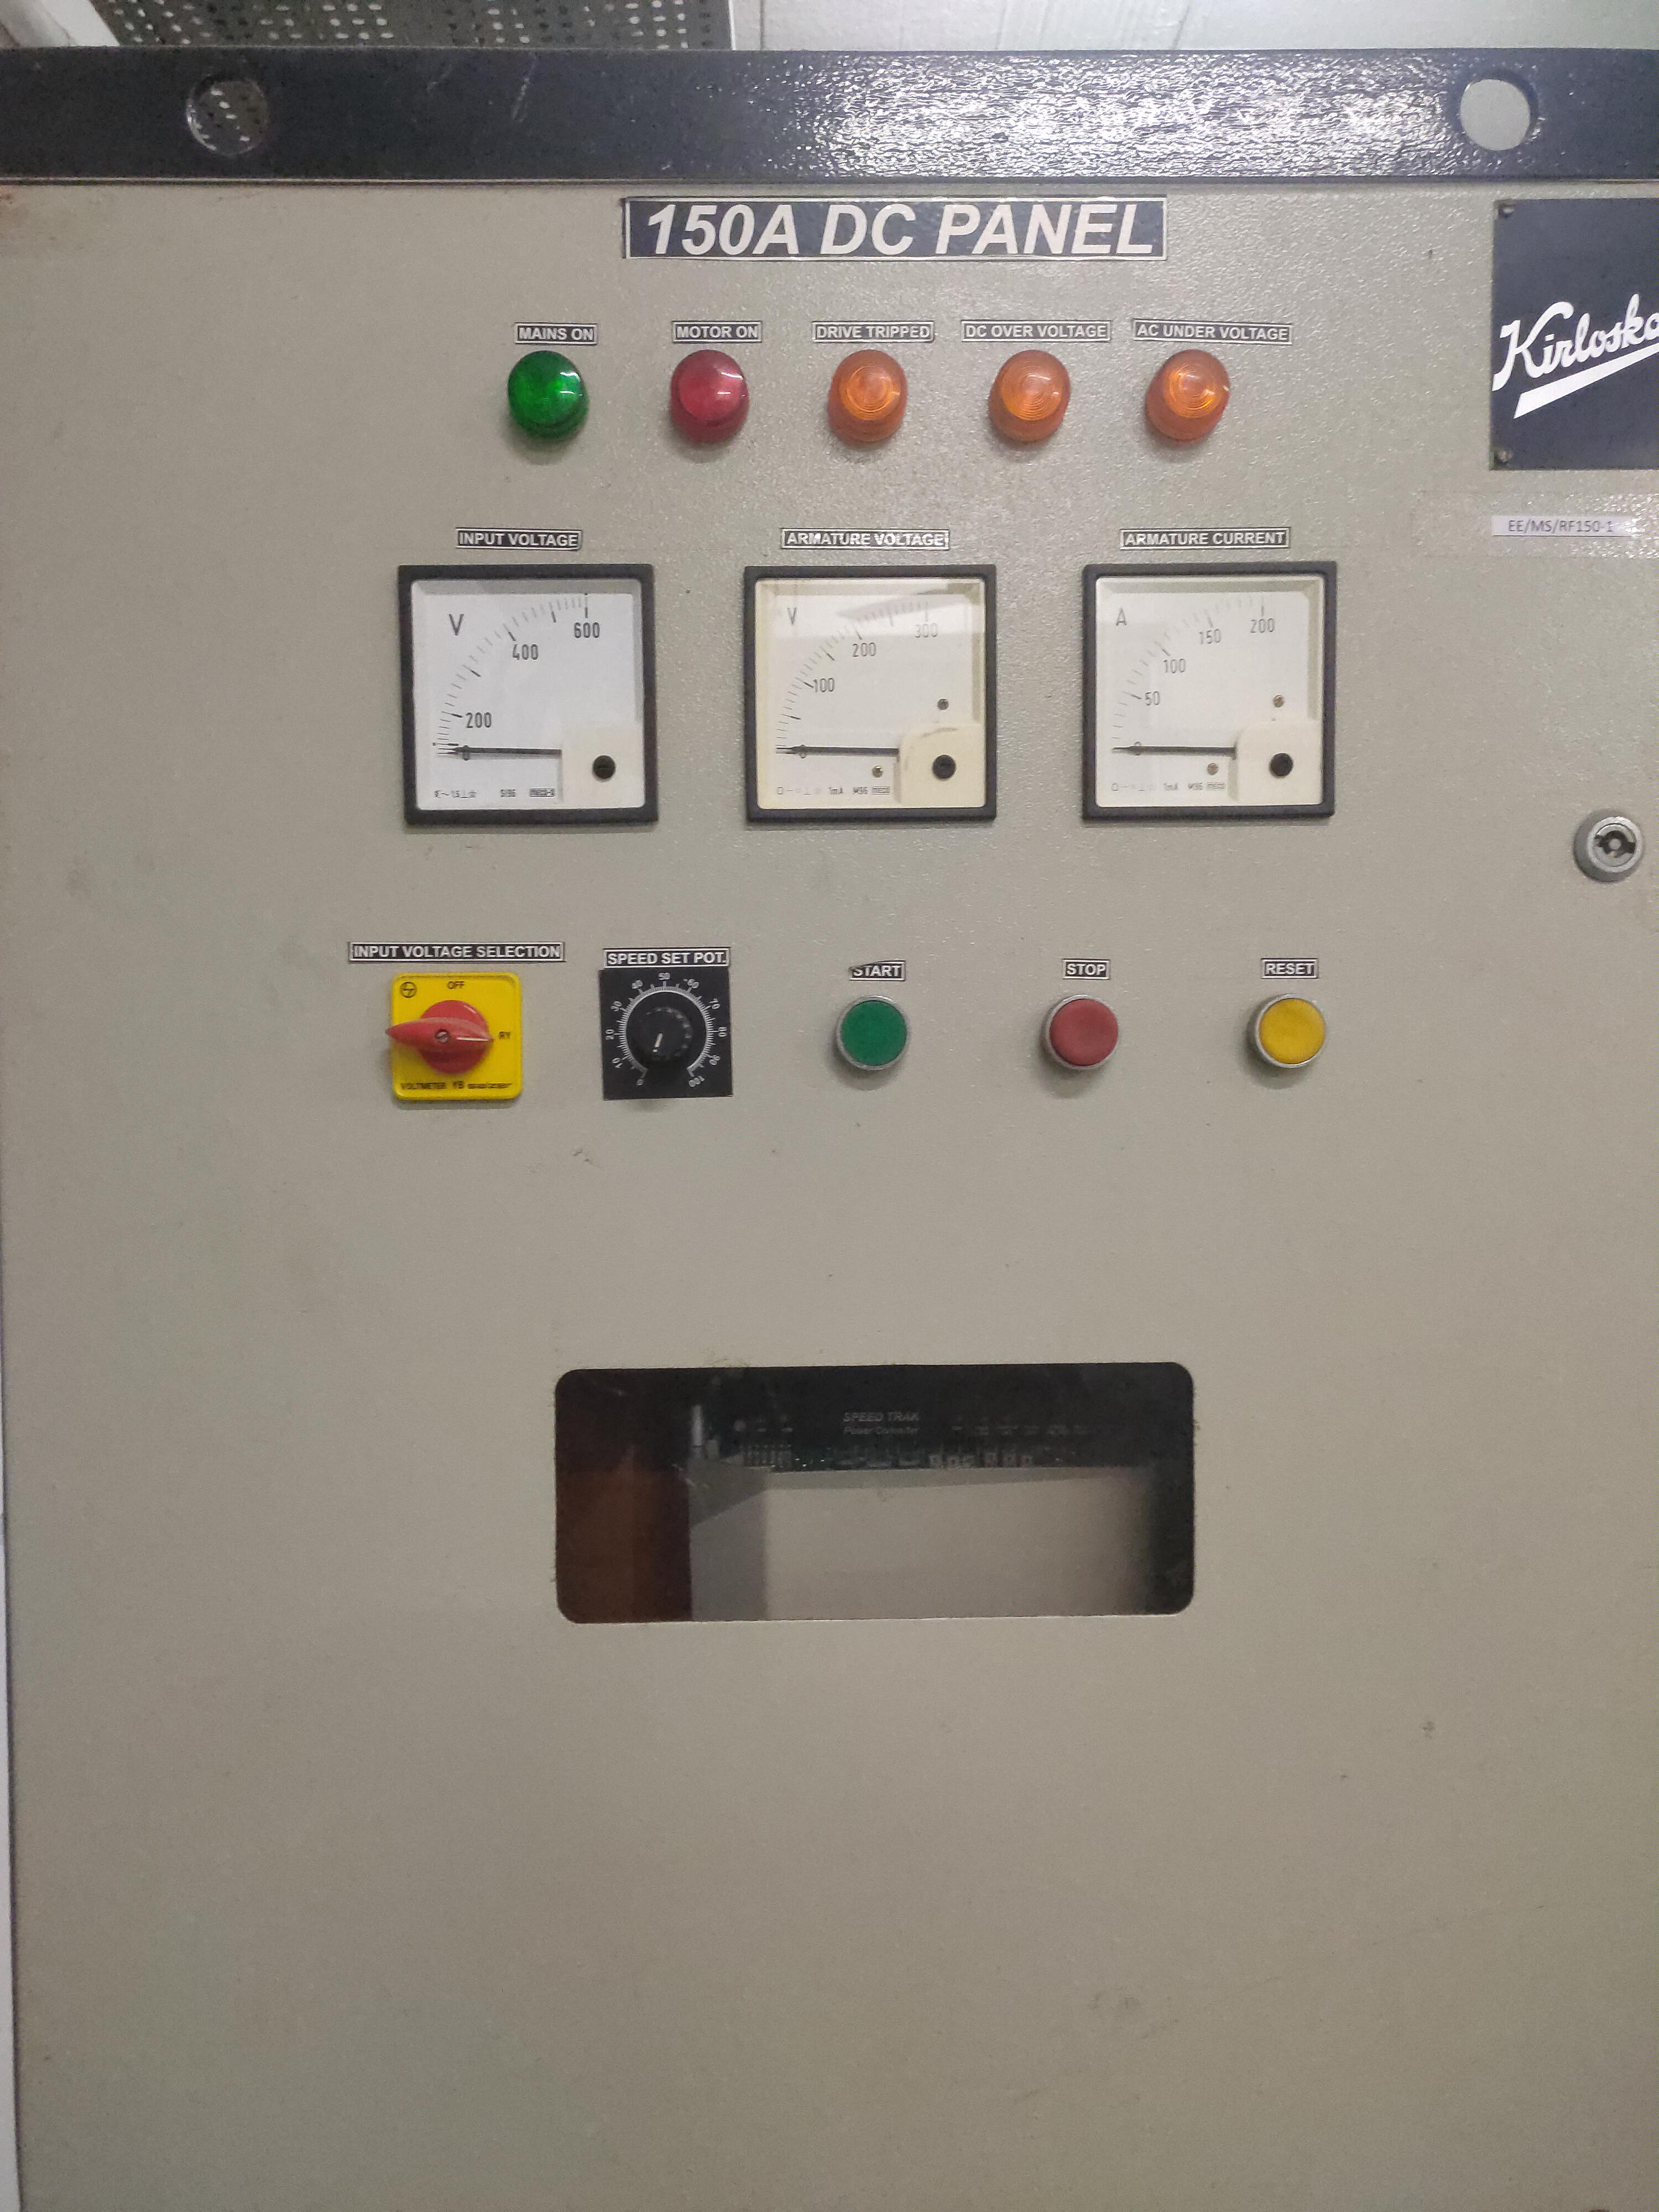Light Indications: (455, 296, 1265, 489)
